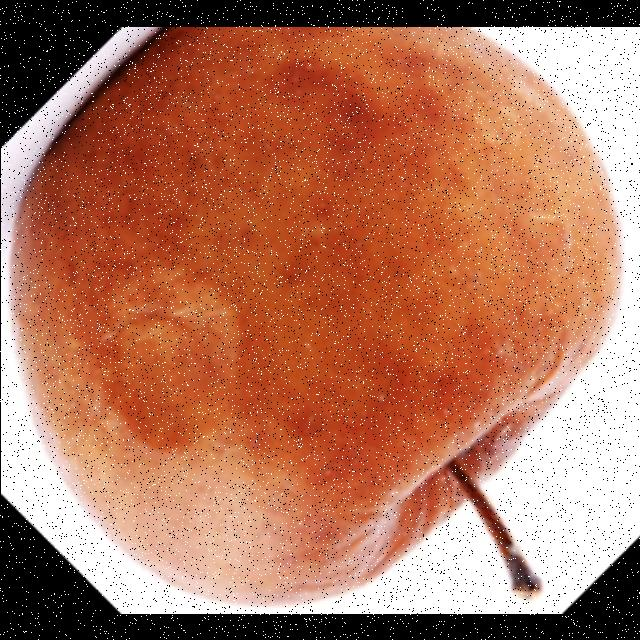Apel Tidak Segar: (9, 27, 621, 609)
